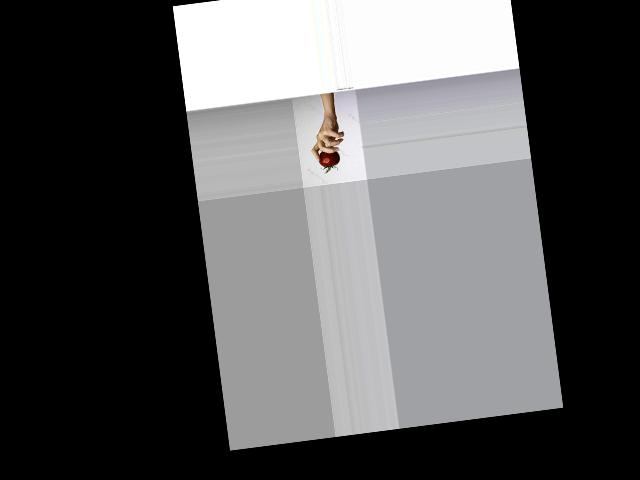tomato: (318, 150, 341, 173)
